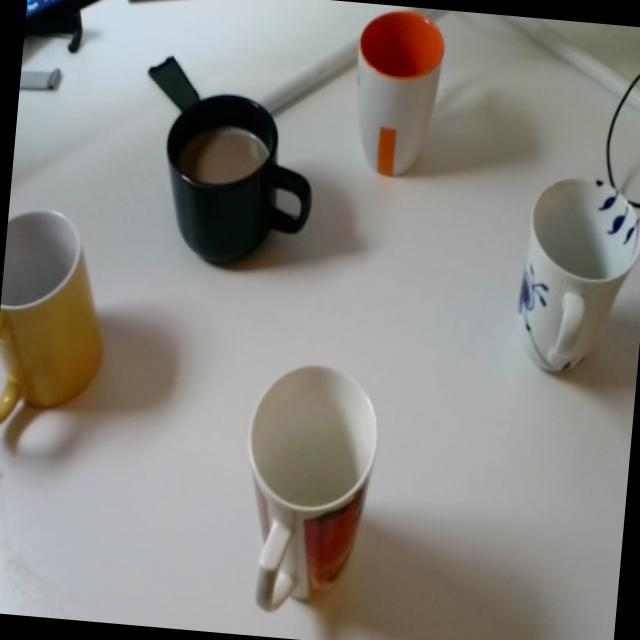Cocio Cup: (0, 204, 113, 428)
Cup: (155, 84, 322, 275)
Halloween cup: (233, 358, 385, 624), (346, 10, 448, 185)
Hand painted cup: (511, 171, 640, 380)
